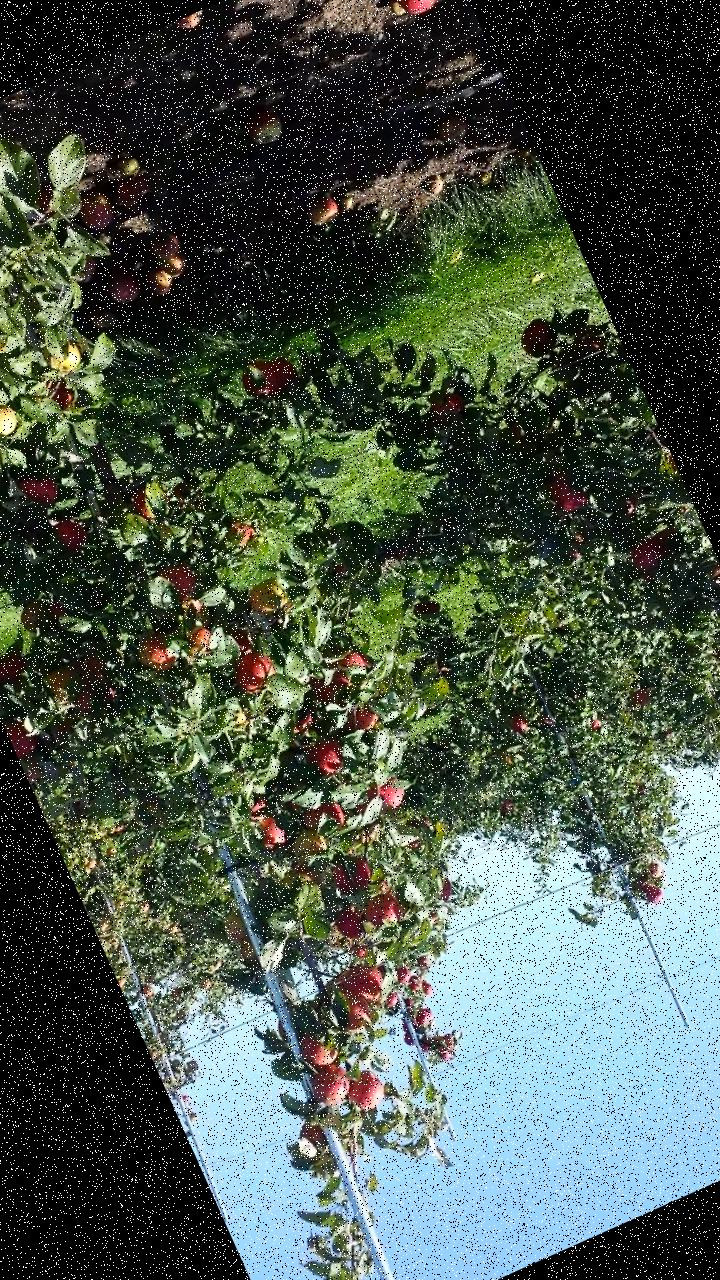Apple: (304, 646, 384, 718), (58, 650, 121, 720), (330, 956, 394, 1019), (349, 771, 411, 826), (156, 558, 209, 622), (228, 646, 283, 700), (305, 1059, 357, 1111), (512, 314, 565, 365), (236, 356, 287, 408), (126, 477, 176, 530), (130, 630, 181, 681), (340, 1066, 390, 1118), (299, 733, 350, 783), (294, 1024, 344, 1074), (328, 988, 378, 1038), (14, 467, 64, 516), (546, 465, 594, 516), (328, 853, 378, 900), (358, 889, 407, 936), (298, 796, 349, 841), (41, 660, 86, 710), (38, 336, 86, 382), (242, 578, 290, 622), (48, 514, 92, 562), (329, 900, 374, 946), (175, 623, 221, 668), (252, 810, 296, 856), (569, 320, 612, 364), (264, 354, 306, 398), (626, 537, 670, 578), (43, 372, 82, 418), (286, 824, 330, 864), (16, 596, 57, 638), (340, 700, 383, 740), (425, 388, 468, 428), (4, 715, 43, 759), (286, 855, 327, 896), (0, 645, 35, 693), (168, 476, 208, 518), (224, 512, 263, 554), (217, 909, 251, 948), (226, 624, 261, 660), (0, 396, 25, 446), (293, 1118, 327, 1151), (284, 710, 320, 741), (242, 794, 276, 826), (234, 934, 260, 970), (504, 418, 533, 450), (562, 532, 592, 562), (50, 718, 80, 747), (619, 491, 649, 519), (21, 756, 48, 786), (652, 524, 681, 550), (0, 318, 11, 371), (274, 1020, 292, 1047), (229, 708, 252, 728), (50, 601, 70, 624), (706, 565, 719, 595)
